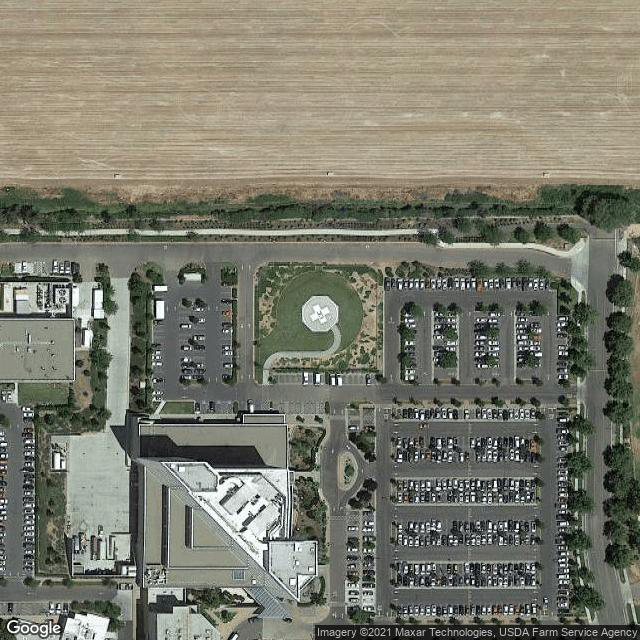Helipad: (298, 291, 341, 334)
